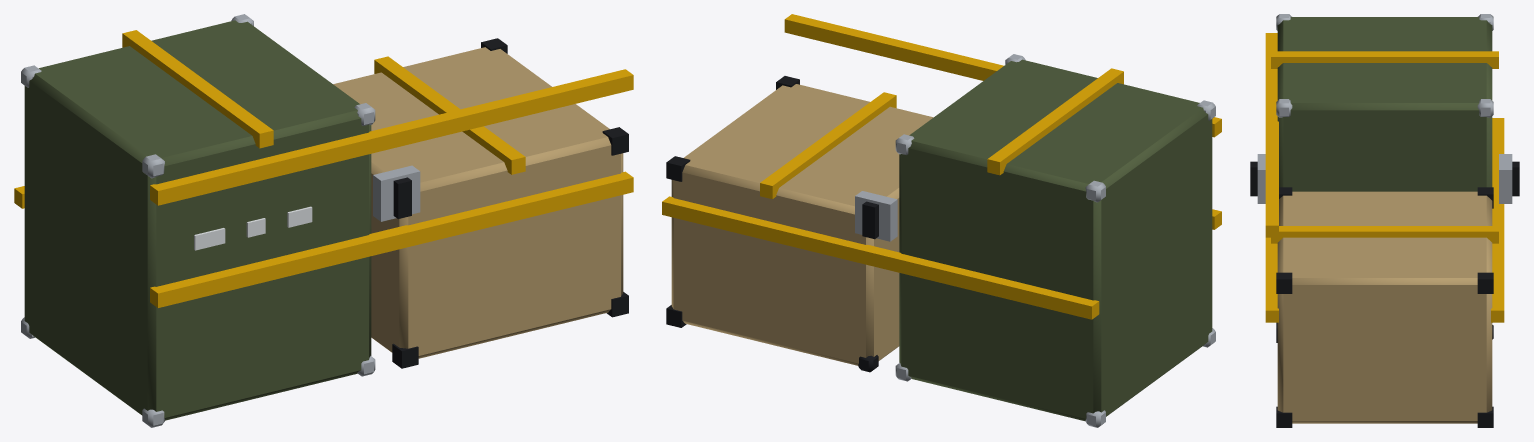
Rendered from crate_strapped_pair.glb.
3 views of the same model, side by side, from view 1: azimuth 30°, elevation 25°; view 2: azimuth 150°, elevation 25°; view 3: azimuth 270°, elevation 25° (orthographic). The views are drawn at different scales.
Visible parts, largest first — view 1: crate_strapped_pair; view 2: crate_strapped_pair; view 3: crate_strapped_pair.
Boxes of the visible parts, x1=… form: crate_strapped_pair: x1=14, y1=14, x2=633, y2=427; crate_strapped_pair: x1=662, y1=14, x2=1221, y2=427; crate_strapped_pair: x1=1250, y1=14, x2=1519, y2=427.
Size of the model in its own units: 1.71 by 0.931 by 1.
